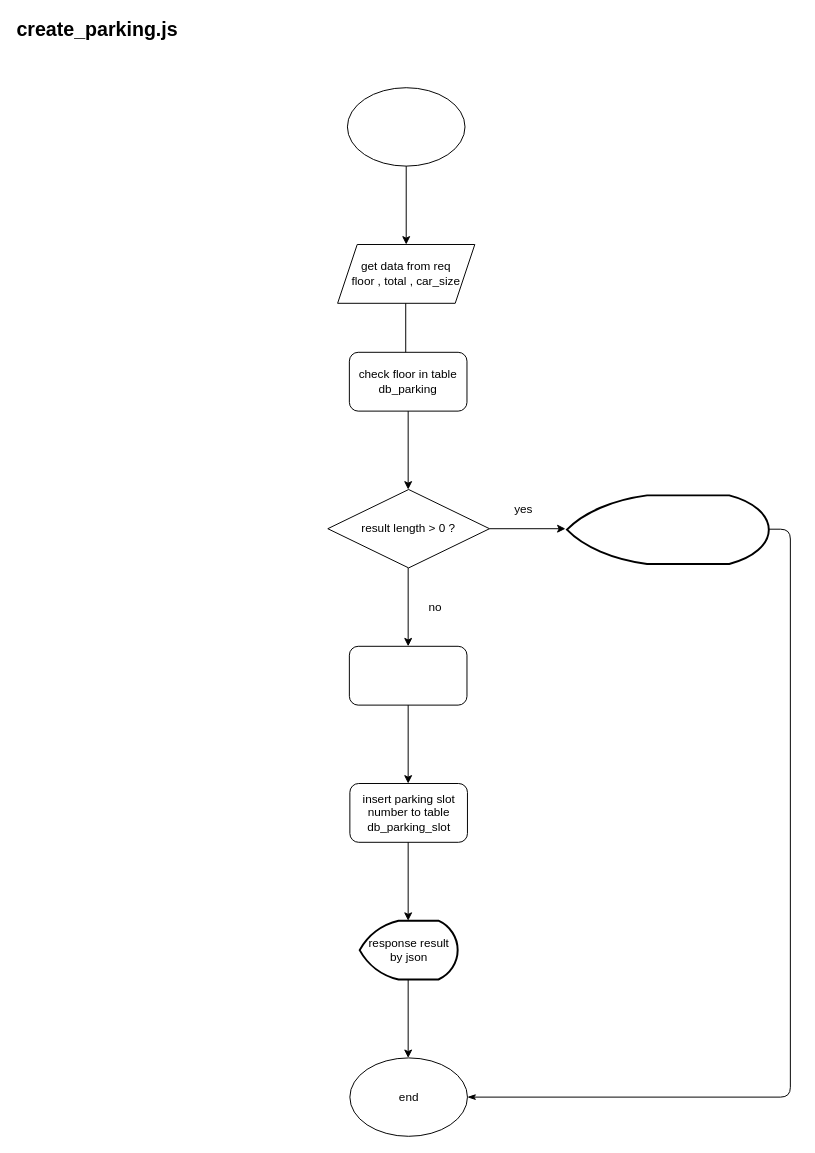
Image size: 815x1153. Some labels were removed from this diagram. Each missing label, with the box of its shape:
insert all data parking lot to table db_parking: (348, 645, 467, 705)
response json " Sorry! floor 'x' ' is already in the system. ": (565, 494, 769, 564)
start: (346, 87, 465, 166)
